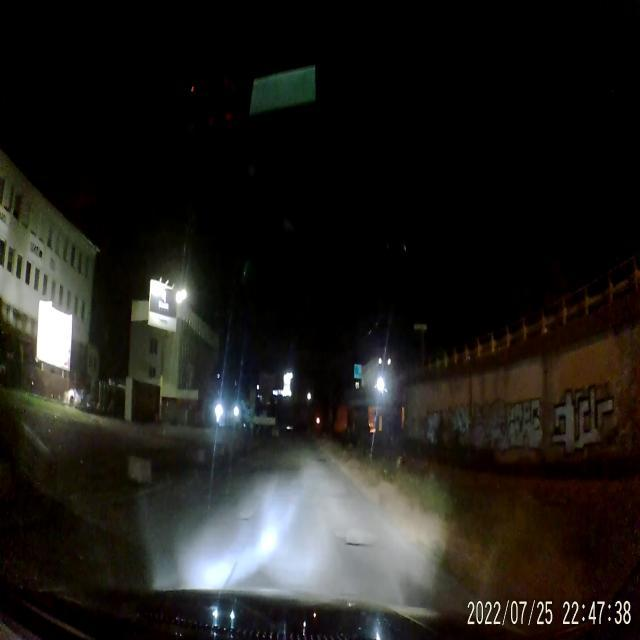Pothole: (334, 516, 376, 560)
